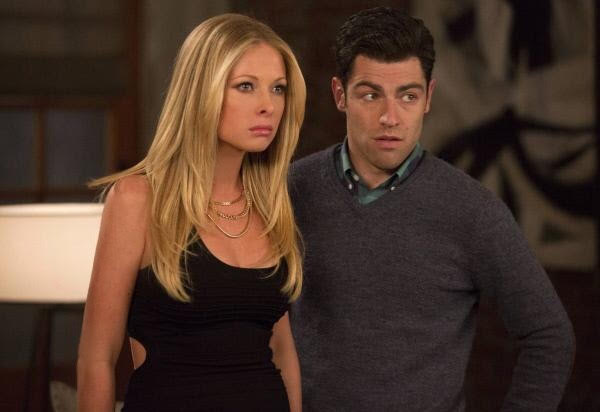person: (285, 14, 566, 408), (90, 10, 316, 409)
